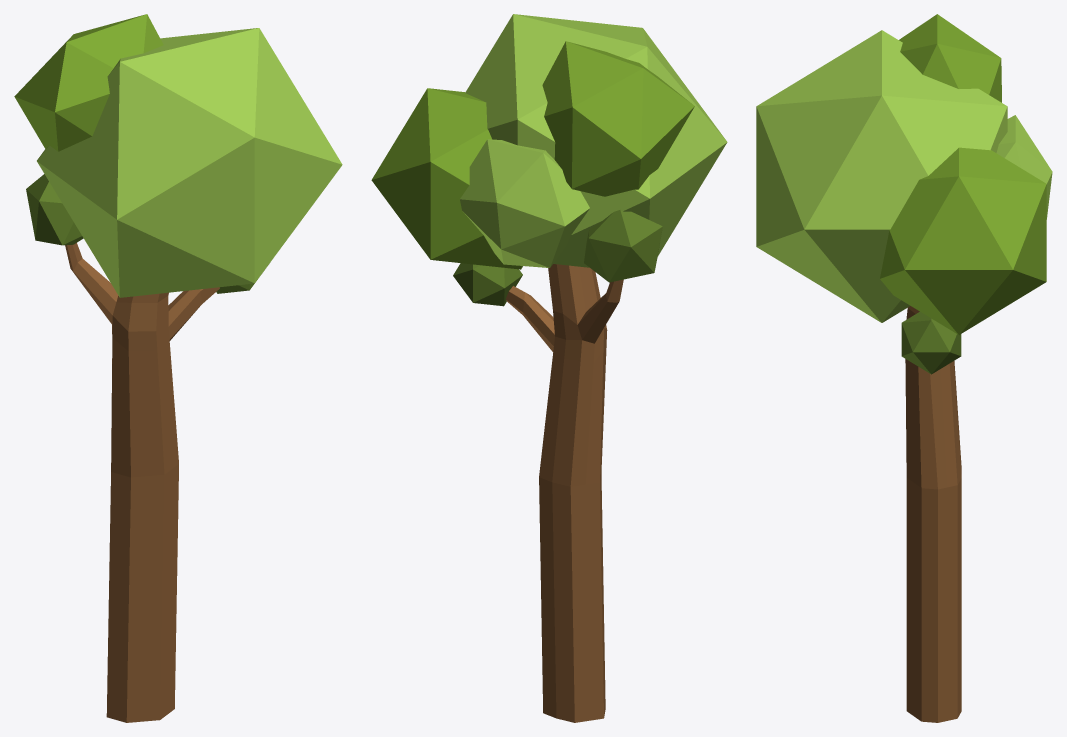
The model's file is Laubbaum II.fbx.
The picture shows the model from 3 angles, left to right: view 1: azimuth 30°, elevation 25°; view 2: azimuth 150°, elevation 25°; view 3: azimuth 270°, elevation 25°; orthographic projection. The views are drawn at different scales.
Parts seen in each view (by area): view 1: Platonischer_Körper, stamm, Platonischer_Körper_2_2, Platonischer_Körper_2_3; view 2: stamm, Platonischer_Körper, Platonischer_Körper_2_2, Platonischer_Körper_1, Platonischer_Körper_2, Platonischer_Körper_2_3, Platonischer_Körper_1_2; view 3: Platonischer_Körper, Platonischer_Körper_1, stamm, Platonischer_Körper_2_2, Platonischer_Körper_1_2, Platonischer_Körper_2.
Boxes of the visible parts, bbox=[...] form: Platonischer_Körper: bbox=[37, 28, 342, 297]; stamm: bbox=[65, 243, 219, 722]; Platonischer_Körper_2_2: bbox=[14, 14, 163, 151]; Platonischer_Körper_2_3: bbox=[26, 174, 83, 245]; stamm: bbox=[506, 264, 623, 722]; Platonischer_Körper: bbox=[465, 14, 727, 267]; Platonischer_Körper_2_2: bbox=[542, 41, 694, 196]; Platonischer_Körper_1: bbox=[371, 88, 522, 269]; Platonischer_Körper_2: bbox=[460, 139, 589, 267]; Platonischer_Körper_2_3: bbox=[584, 210, 662, 282]; Platonischer_Körper_1_2: bbox=[453, 263, 522, 306]; Platonischer_Körper: bbox=[756, 30, 1007, 322]; Platonischer_Körper_1: bbox=[880, 147, 1046, 334]; stamm: bbox=[905, 306, 961, 722]; Platonischer_Körper_2_2: bbox=[899, 14, 1001, 102]; Platonischer_Körper_1_2: bbox=[901, 312, 961, 374]; Platonischer_Körper_2: bbox=[996, 115, 1052, 219].
Bounding box in the file's own units: 937 × 2252 × 904.
